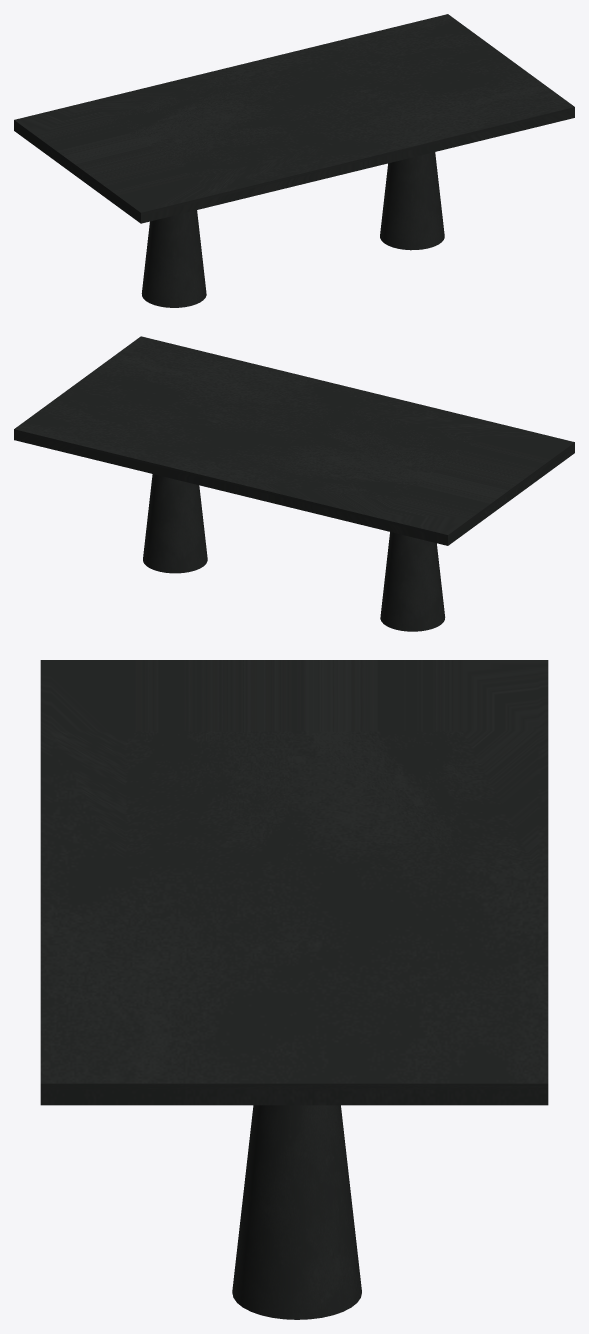
Rendered from darknight_recta_standard_pebble.glb.
The picture shows the model from 3 angles, top to bottom: view 1: azimuth 30°, elevation 25°; view 2: azimuth 150°, elevation 25°; view 3: azimuth 270°, elevation 25°; orthographic projection. The views are drawn at different scales.
Parts seen in each view (by area): view 1: darknight_rectastandard_pebble; view 2: darknight_rectastandard_pebble; view 3: darknight_rectastandard_pebble.
Part boxes in pixels (bbox=[...]): darknight_rectastandard_pebble: bbox=[14, 14, 574, 307]; darknight_rectastandard_pebble: bbox=[14, 336, 574, 631]; darknight_rectastandard_pebble: bbox=[40, 660, 548, 1319].
Bounding box in the file's own units: 7.5 × 2.52 × 3.8.
1 material, 1 textured.
